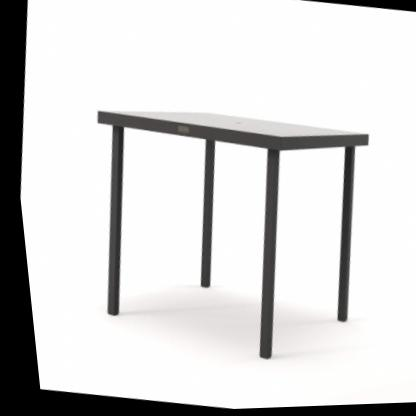Table: (51, 77, 402, 386)
